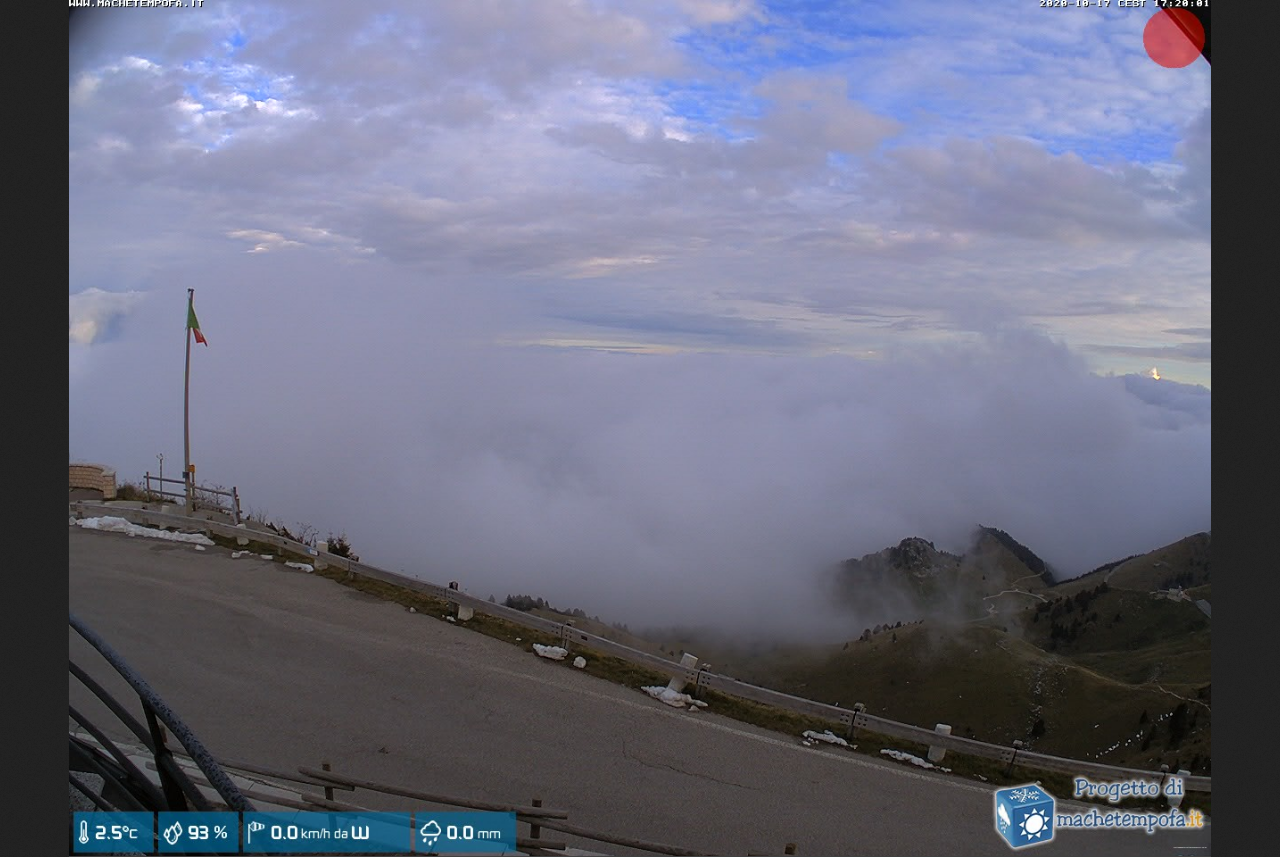no: (186, 302, 209, 349)
